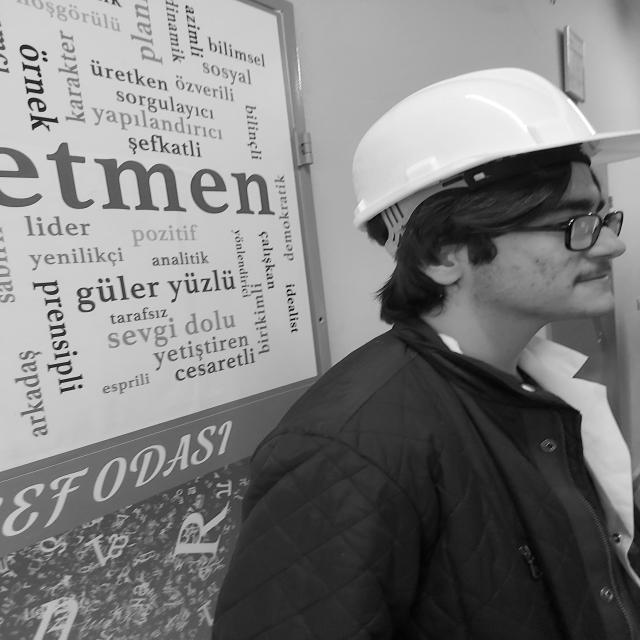safety_helmet: (351, 68, 623, 260)
